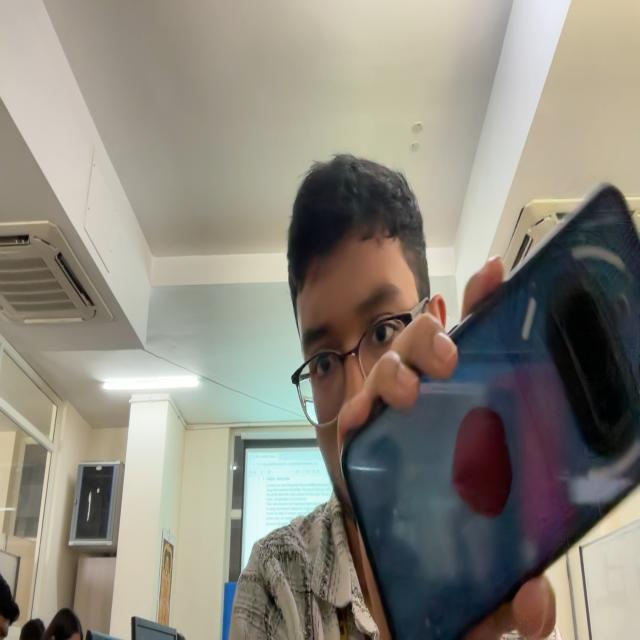Useful: (342, 186, 640, 639)
